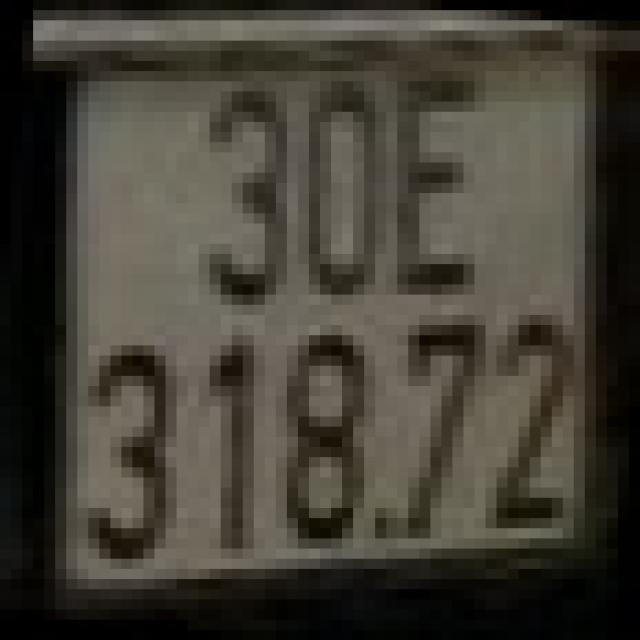1: (210, 346, 264, 548)
2: (486, 325, 574, 528)
3: (198, 91, 298, 305), (88, 346, 177, 558)
7: (398, 324, 474, 538)
8: (276, 336, 376, 538)
D: (298, 81, 387, 295)
E: (398, 71, 486, 295)
